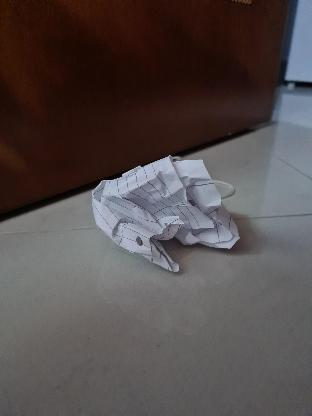Paper: (90, 154, 240, 272)
